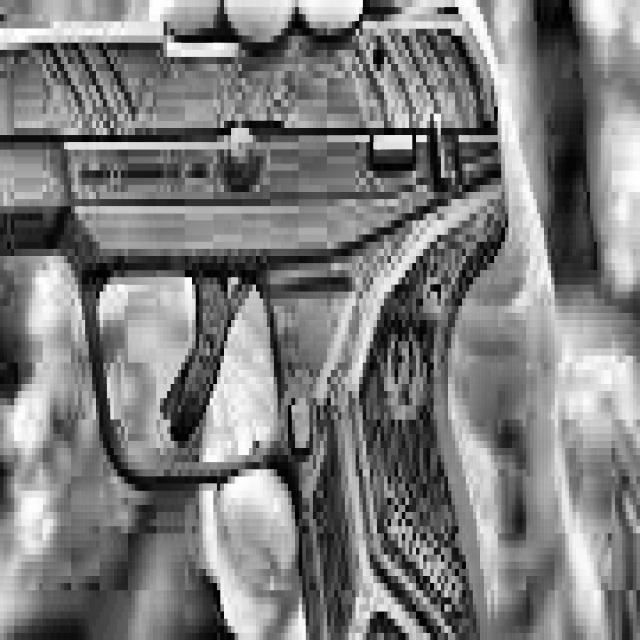Ruger: (0, 0, 508, 640)
